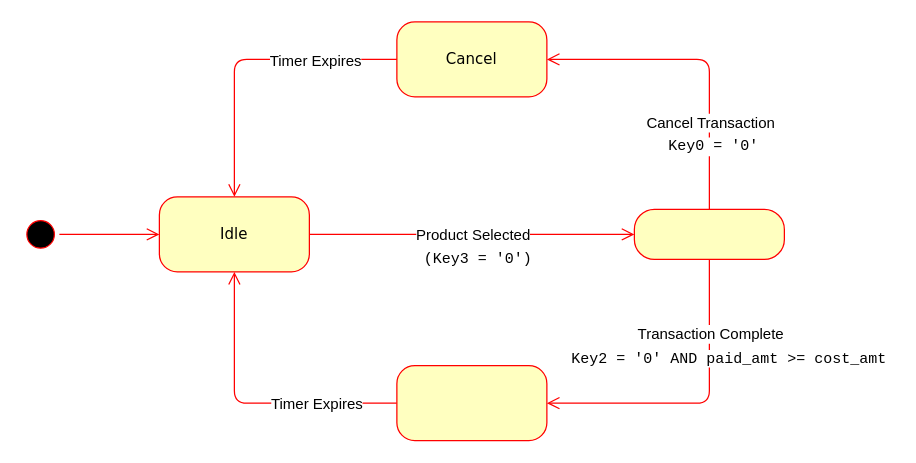
This 916x463 diagram has some shape labels left out. Each missing label, with the box of its shape:
Delivery: (396, 364, 547, 441)
UserTransaction: (633, 208, 784, 259)
